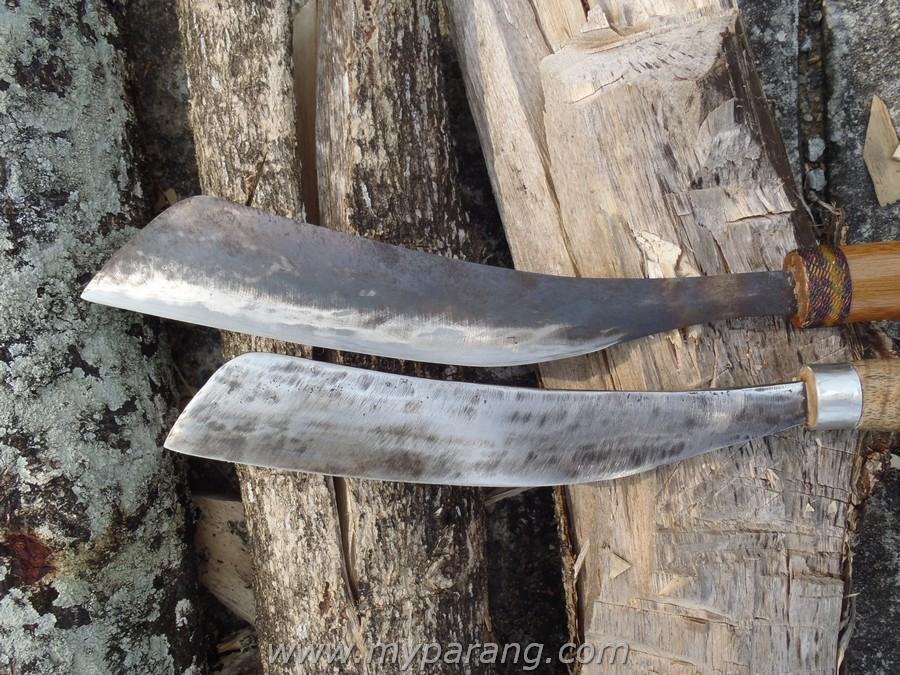facao: (83, 186, 893, 351), (161, 355, 900, 492)
